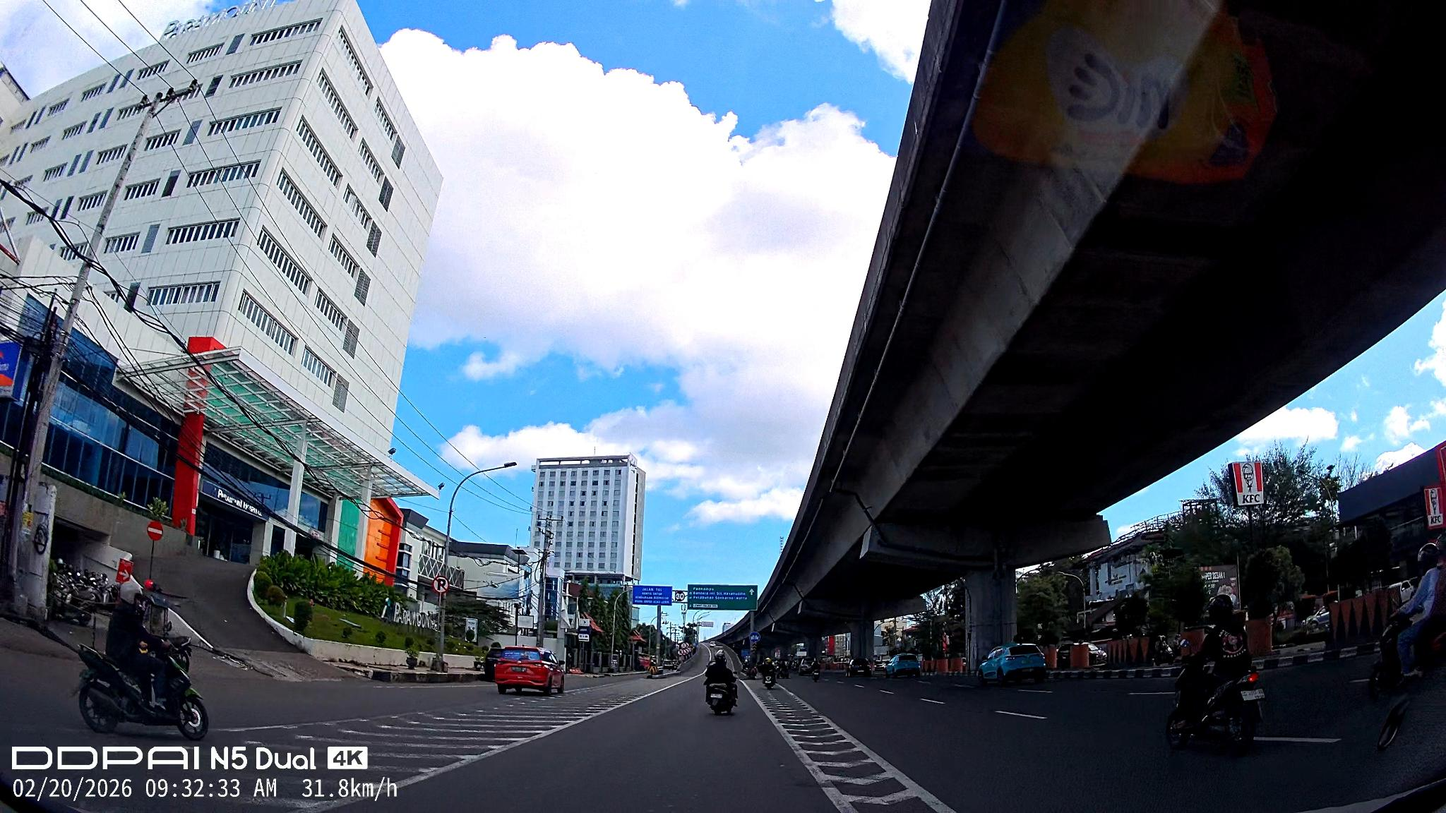rambu_teks: (687, 584, 758, 611), (632, 585, 672, 606)
